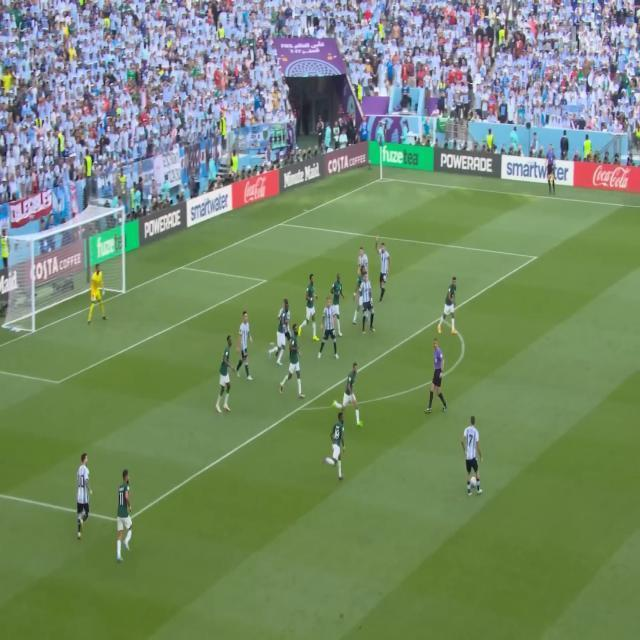player: (71, 447, 95, 546), (114, 465, 138, 562), (284, 325, 310, 408), (459, 416, 484, 497), (326, 404, 347, 489), (86, 255, 109, 329), (270, 293, 292, 370), (217, 327, 234, 419), (438, 272, 460, 343), (319, 293, 338, 371), (343, 359, 363, 429), (330, 267, 348, 341), (239, 311, 256, 387), (375, 235, 393, 305), (303, 270, 320, 344), (358, 270, 376, 337), (356, 243, 371, 287)
